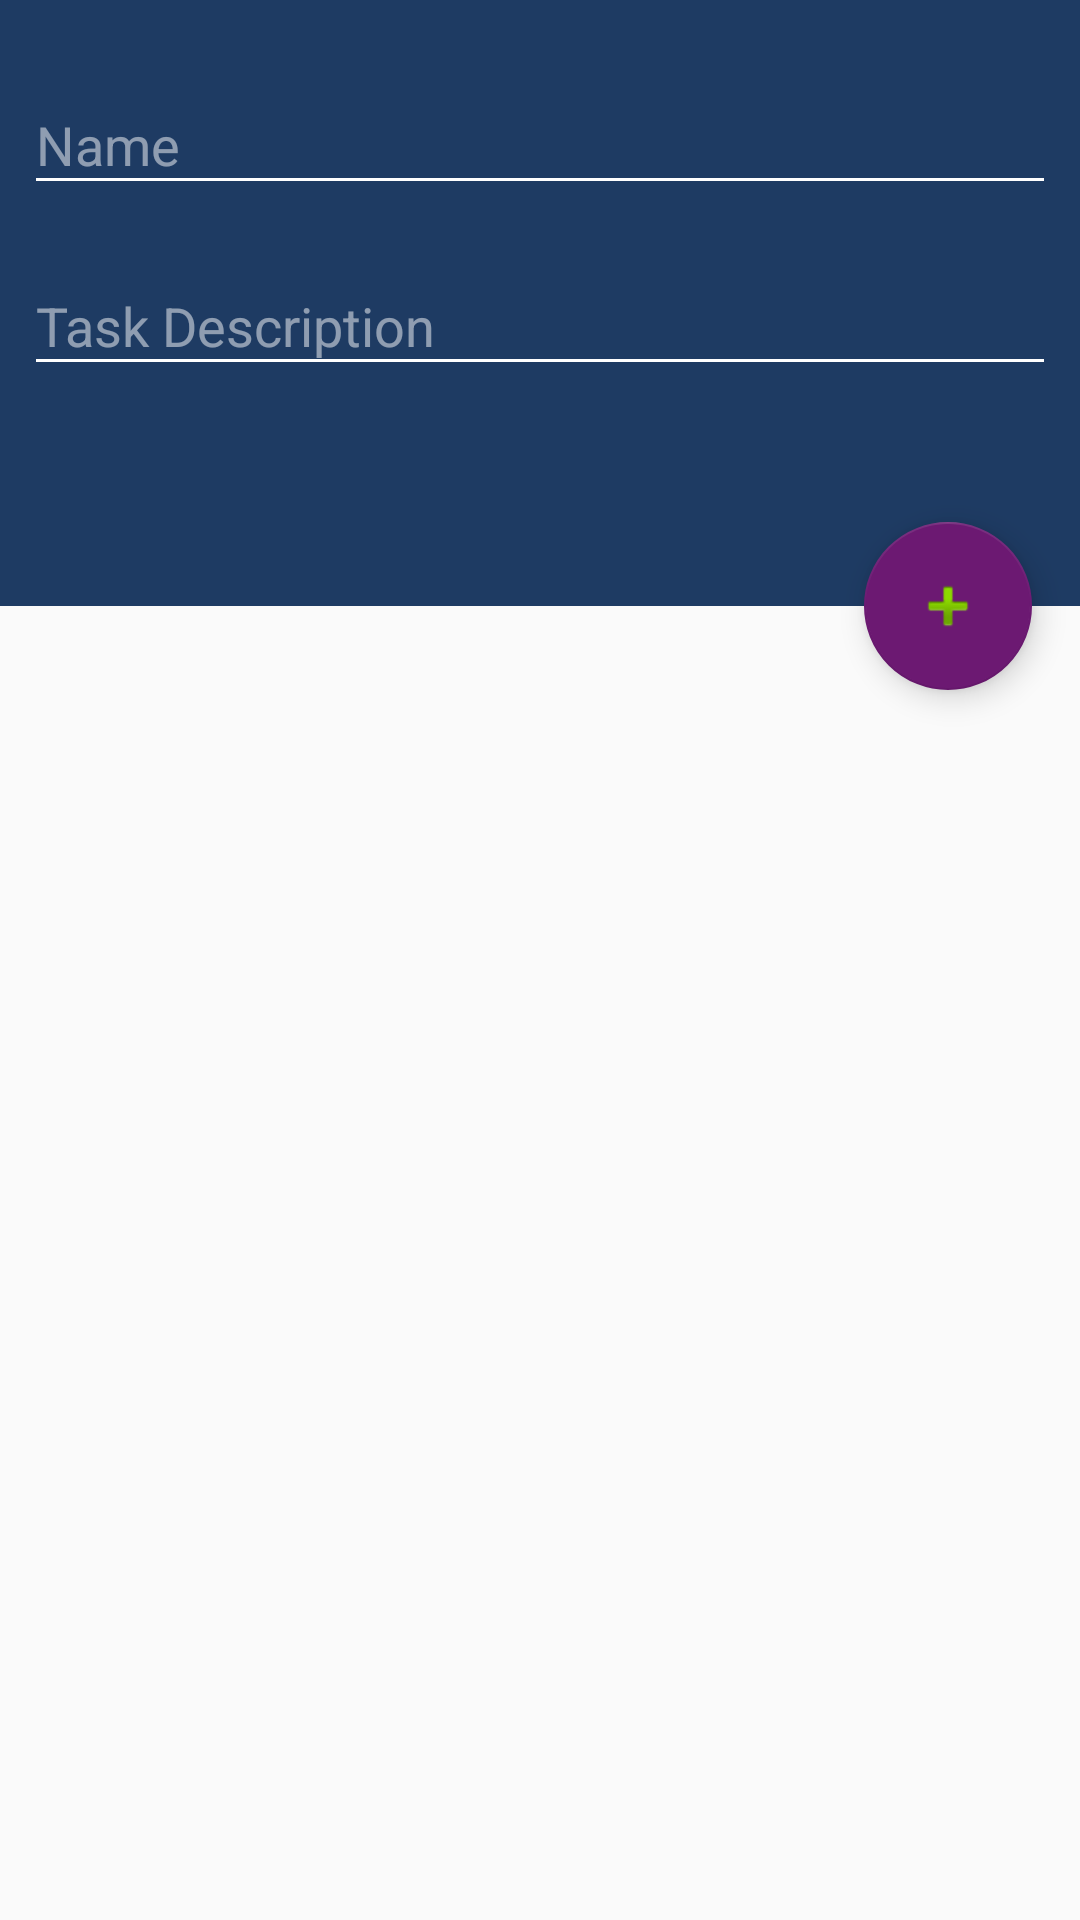

Point at icon controls on the screen. Image size 1080w x 1920h, points as [x,y].
add: [948,606]
